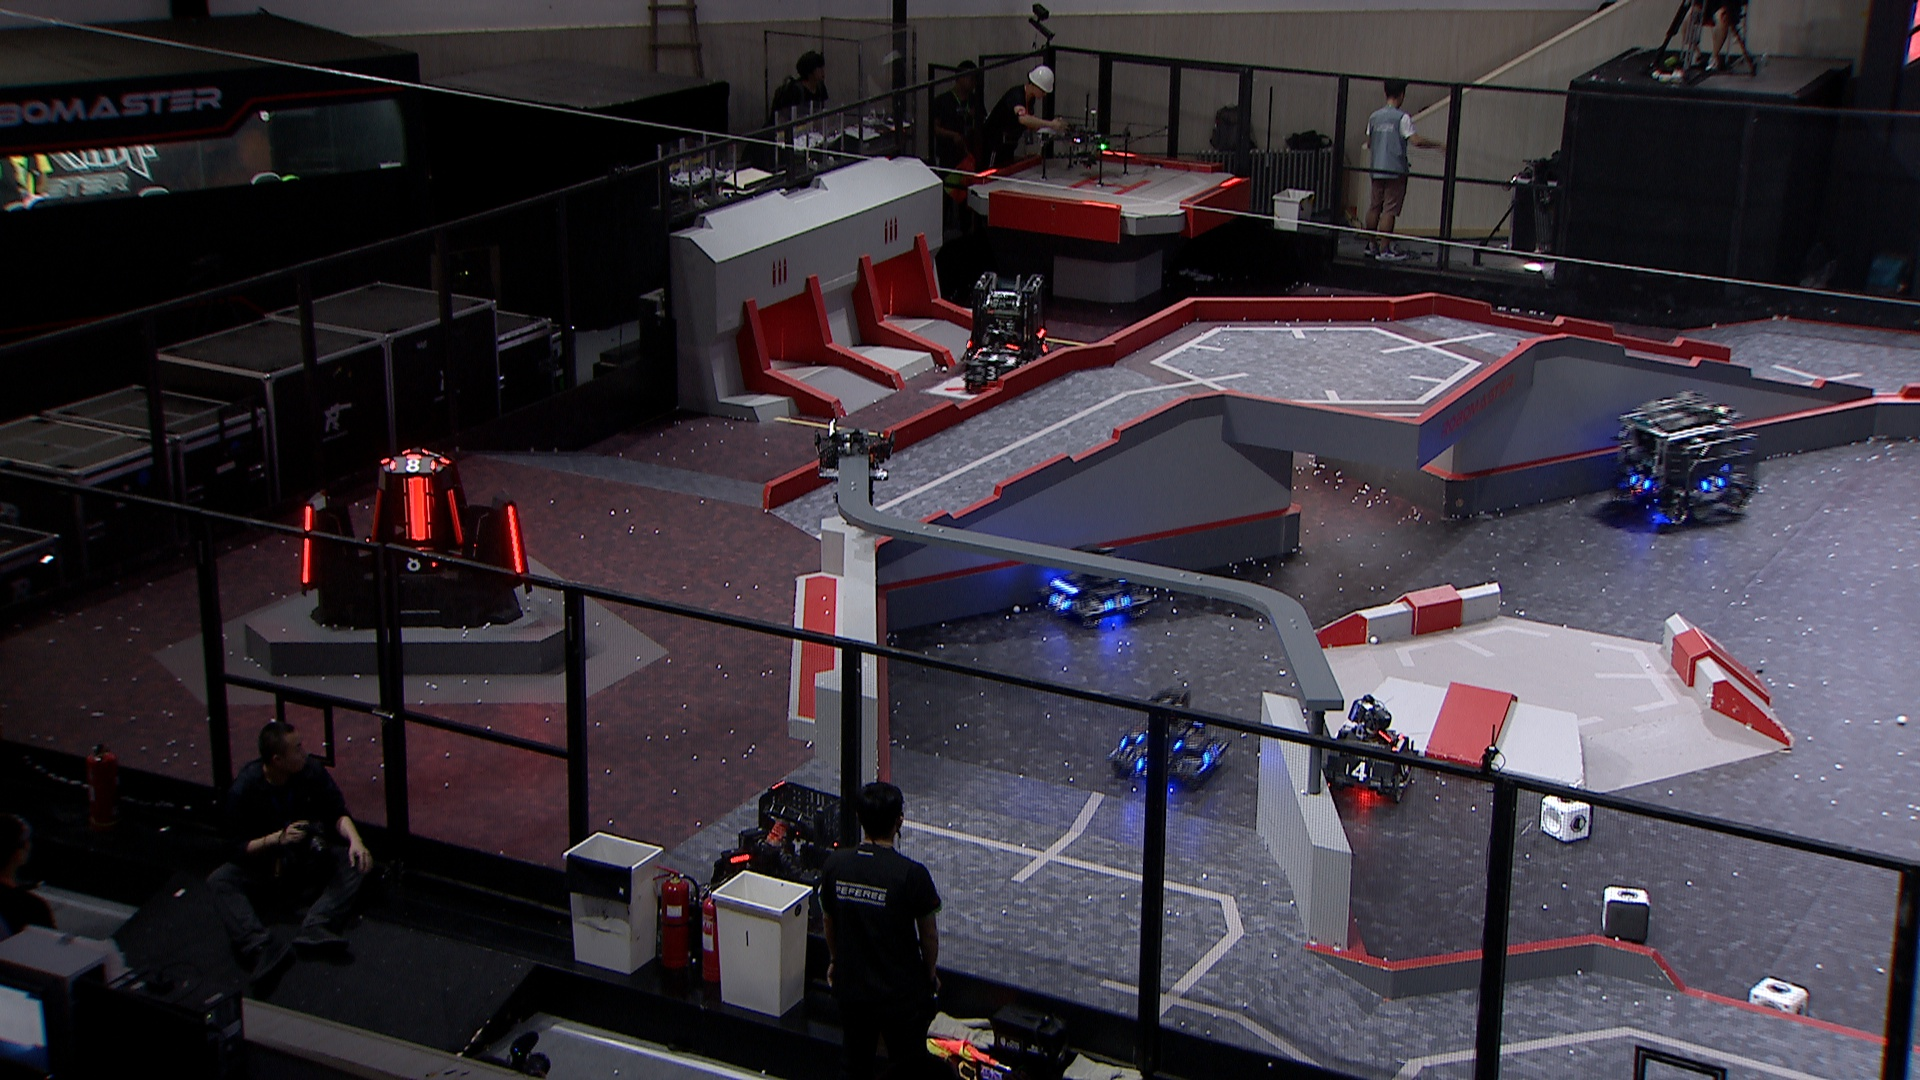armor: (404, 475, 430, 542), (502, 501, 526, 574), (295, 501, 315, 588), (442, 491, 465, 542), (367, 488, 386, 542), (389, 452, 436, 473), (1342, 757, 1377, 785), (1092, 593, 1134, 613), (401, 551, 436, 574), (1044, 589, 1073, 615), (1199, 738, 1221, 767), (1697, 472, 1727, 491), (978, 363, 1004, 384), (1627, 472, 1652, 493), (978, 349, 1011, 363), (1396, 757, 1414, 777)
base: (291, 443, 533, 632)
car: (704, 782, 869, 932), (1611, 389, 1764, 531), (1106, 684, 1236, 789), (1036, 541, 1160, 633), (1319, 695, 1419, 804), (965, 270, 1051, 363), (955, 327, 1040, 392)
watcher: (814, 411, 901, 509)
